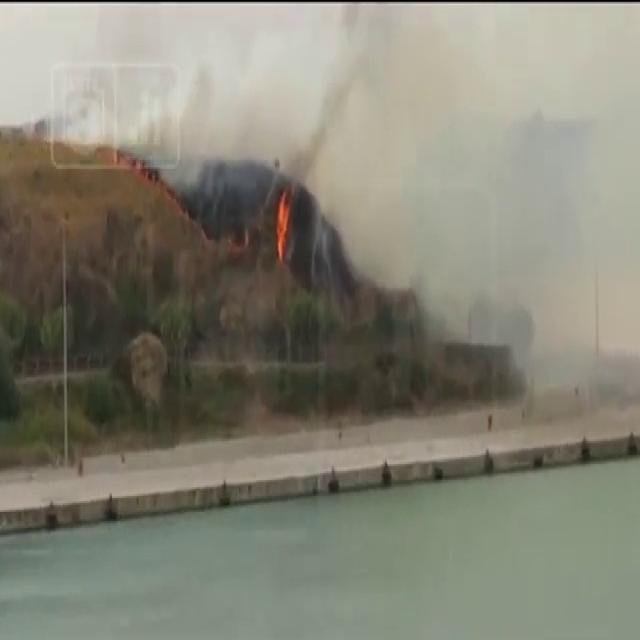Fire: (276, 189, 295, 261), (110, 144, 147, 174), (151, 169, 177, 204), (232, 222, 252, 250)
Smoke: (328, 0, 462, 131), (144, 72, 222, 164), (284, 121, 332, 199)
